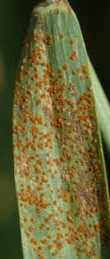Leaf Rust: (15, 48, 105, 252)
